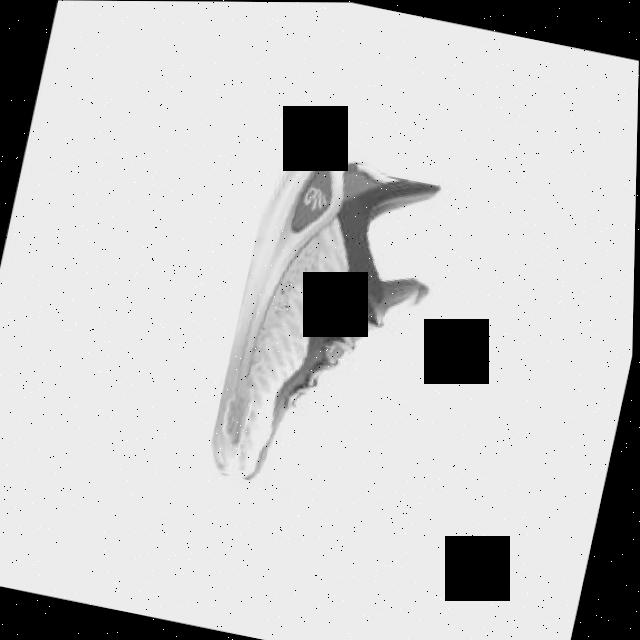shoe: (205, 138, 455, 514)
